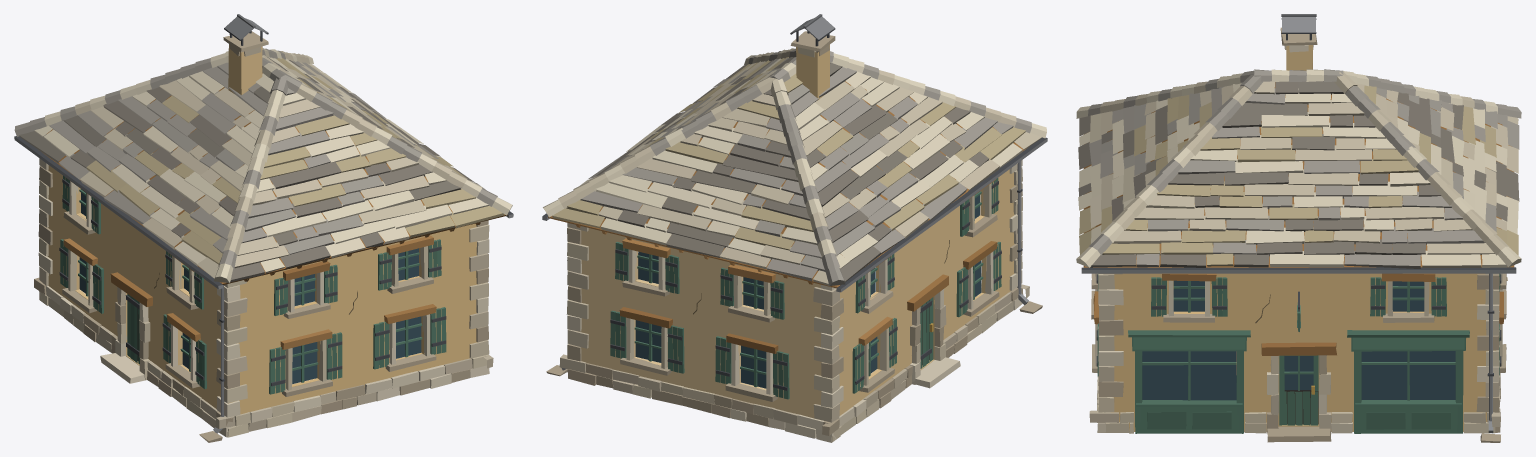
File: epicerie.glb
The picture shows the model from 3 angles, left to right: view 1: azimuth 30°, elevation 25°; view 2: azimuth 150°, elevation 25°; view 3: azimuth 270°, elevation 25°; orthographic projection. The views are drawn at different scales.
Parts seen in each view (by area): view 1: epicerie; view 2: epicerie; view 3: epicerie.
Part boxes in pixels (x1,y1,x2,y2): epicerie: (14,14,513,442); epicerie: (542,14,1047,442); epicerie: (1076,14,1521,442).
Size of the model in its own units: 9.63 by 9.56 by 11.27.
